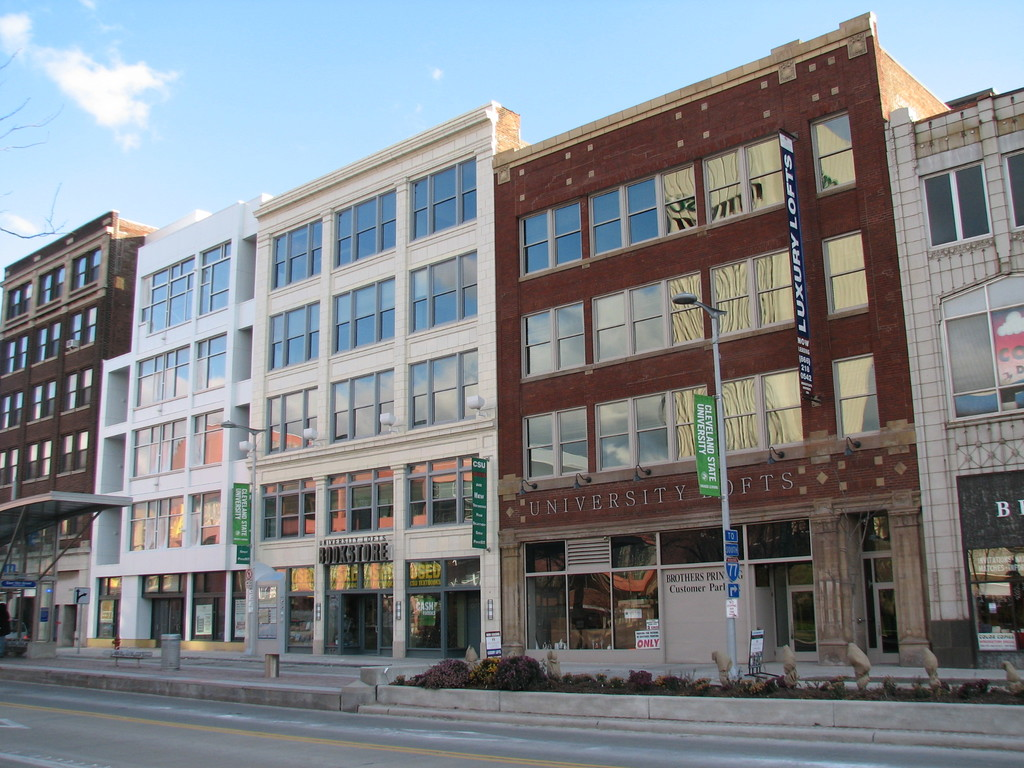Window: (915, 135, 1004, 255), (940, 309, 1001, 420), (521, 399, 593, 490), (407, 250, 473, 346), (406, 447, 477, 531), (407, 348, 477, 430), (408, 156, 477, 234), (334, 273, 397, 351), (335, 186, 397, 264), (333, 369, 396, 442), (329, 463, 391, 536), (821, 227, 870, 317), (706, 257, 758, 341), (837, 352, 883, 444), (722, 371, 767, 464), (145, 252, 196, 332), (259, 475, 320, 541), (758, 247, 805, 329), (763, 364, 804, 455), (273, 388, 324, 459), (271, 299, 318, 376), (630, 390, 674, 471), (629, 273, 670, 358), (812, 107, 851, 193), (598, 398, 637, 481), (668, 381, 707, 463), (128, 495, 185, 550), (744, 135, 783, 214), (272, 220, 324, 278), (671, 267, 706, 351), (625, 175, 664, 250), (587, 188, 628, 259), (705, 150, 743, 225), (522, 305, 561, 378), (660, 165, 700, 236), (201, 233, 234, 314), (133, 420, 182, 474), (546, 198, 583, 269), (140, 346, 191, 396), (596, 294, 630, 365), (558, 298, 589, 372), (188, 407, 225, 468), (193, 326, 226, 394), (524, 209, 551, 283), (190, 486, 221, 546), (36, 264, 70, 312), (77, 243, 104, 301), (62, 373, 96, 415), (70, 304, 99, 352), (3, 445, 22, 511), (62, 431, 88, 470), (26, 440, 51, 480), (5, 333, 29, 374), (31, 378, 54, 420), (5, 283, 28, 320), (44, 323, 65, 362), (4, 394, 24, 434)
